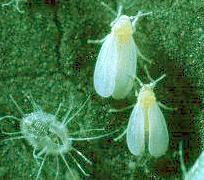whitefly: (87, 2, 151, 100), (118, 73, 176, 158)
